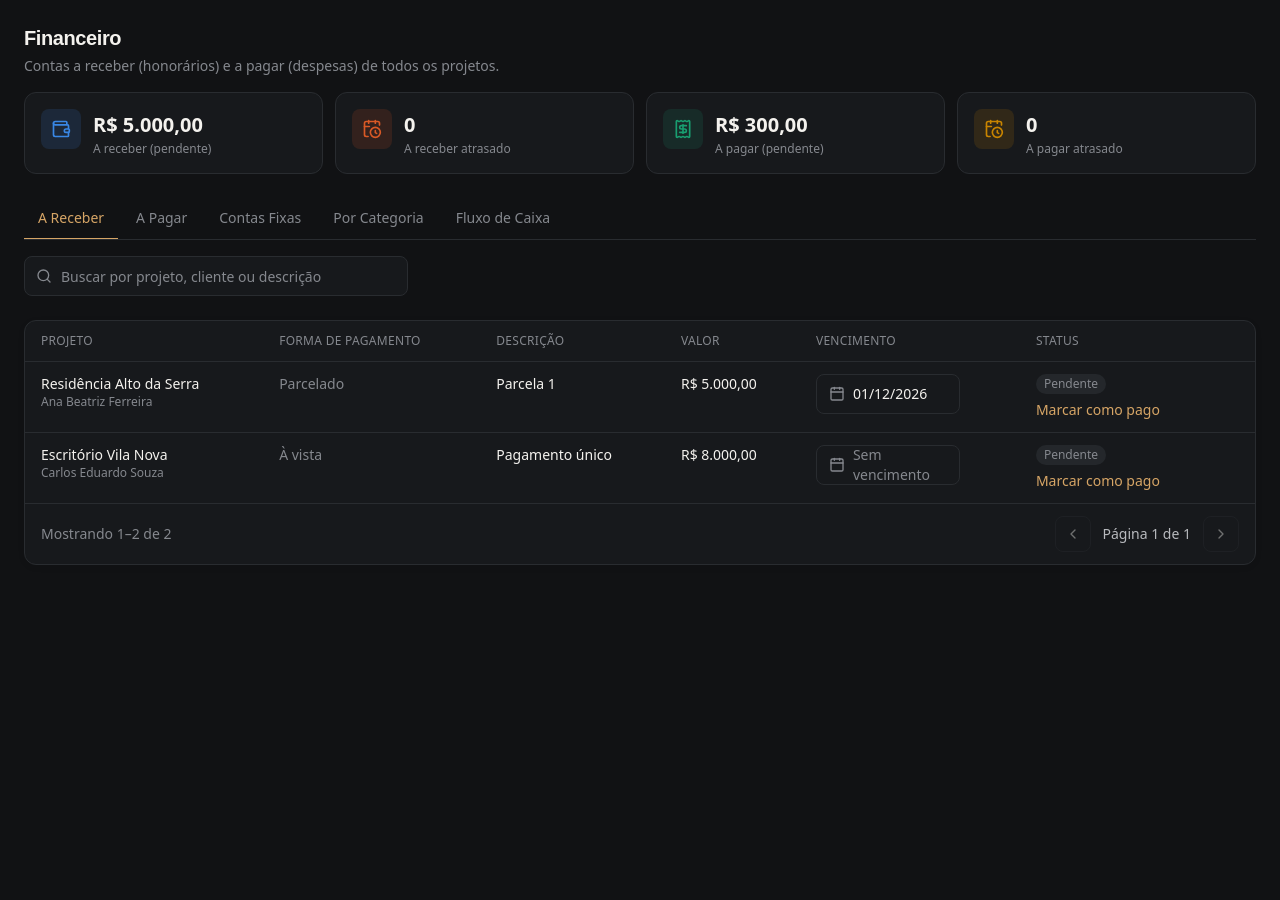
Test: FinancialPage › switches to the Por Categoria tab and renders fetchCategorySpend data
Expected: the text "Parcela 1" is shown, [496,374,556,394]
Click the button "Por Categoria".
click(378, 219)  # box [319,198,438,240]
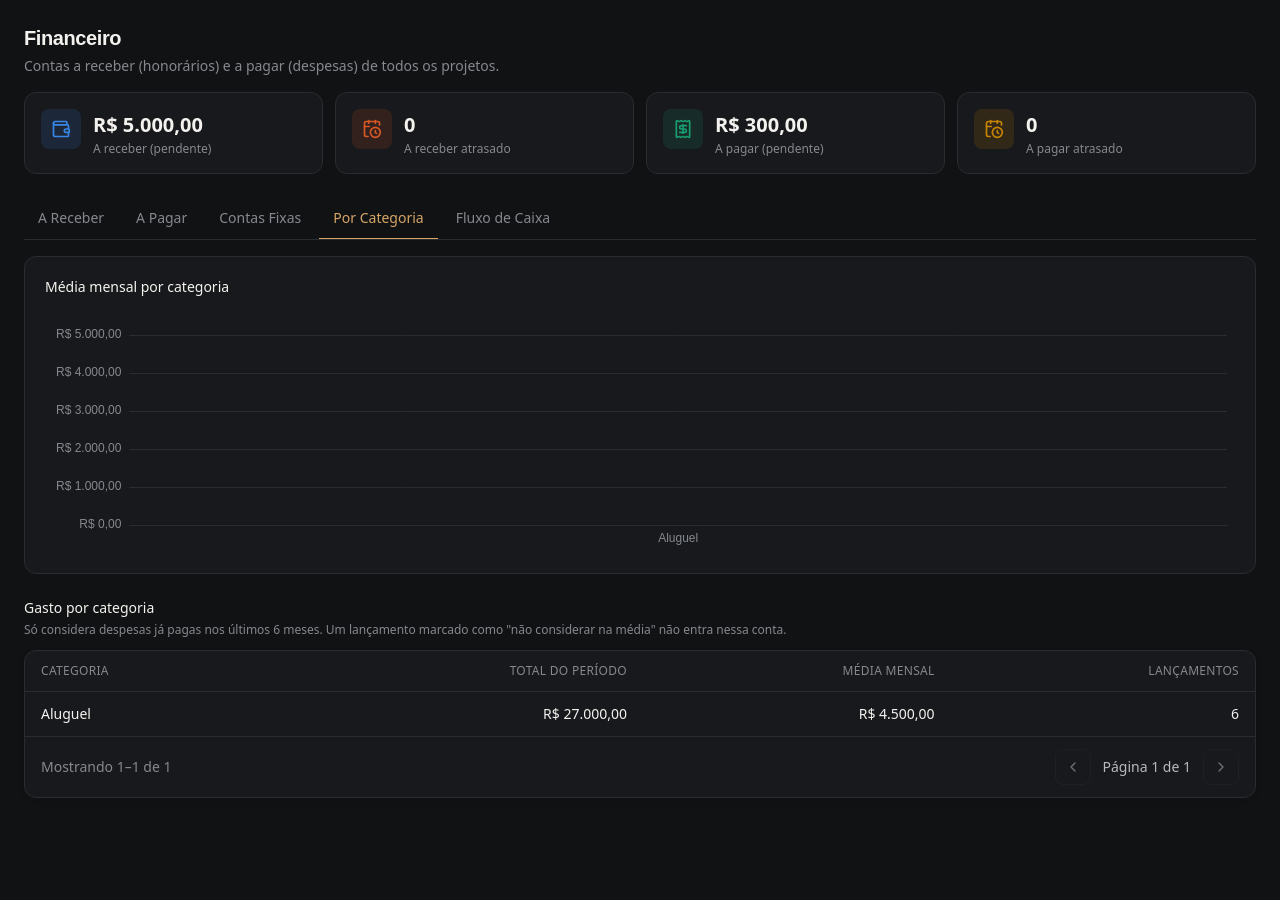
Now the text "Aluguel" is shown, box [41,704,91,723]
Now the text "R$ 27.000,00" is shown, box [272,692,643,736]
